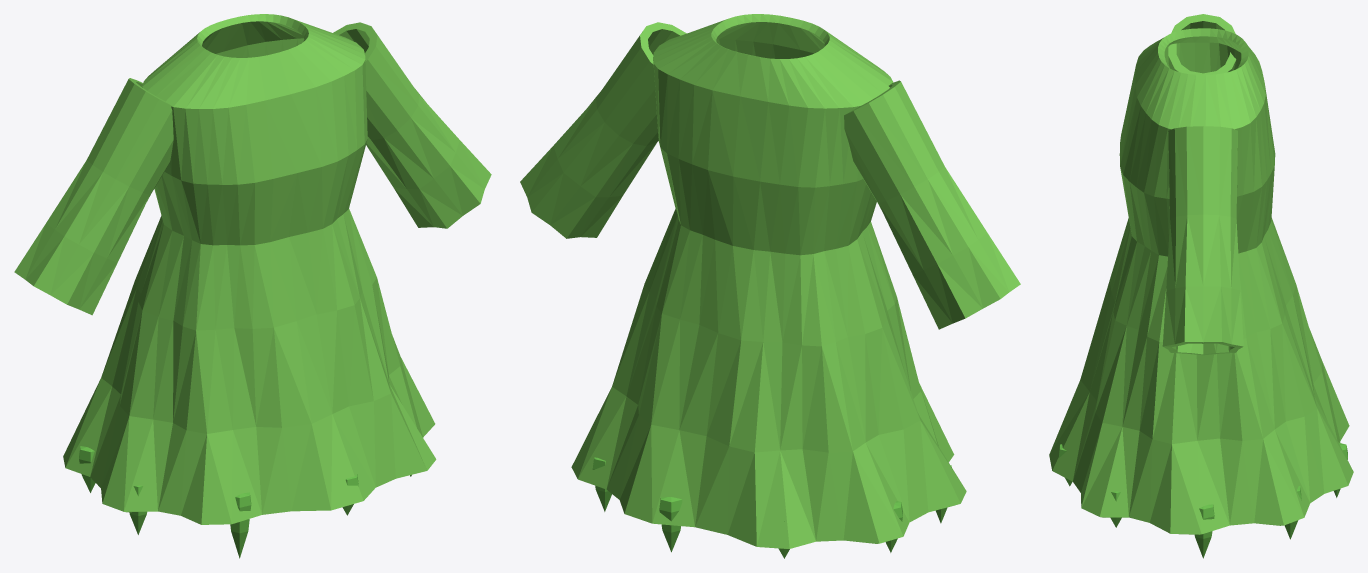
Rendered from slime_coat.obj.
3 renders of one model, left to right at view 1: azimuth 30°, elevation 25°; view 2: azimuth 150°, elevation 25°; view 3: azimuth 270°, elevation 25°, orthographic. The views are drawn at different scales.
Parts seen in each view (by area): view 1: A_Body.001_slime_coat_cloth, C_Sleeve.001_slime_coat_cloth, F_Drip6.001_slime_coat_slime; view 2: A_Body.001_slime_coat_cloth, C_Sleeve.001_slime_coat_cloth, F_Drip2.001_slime_coat_slime; view 3: A_Body.001_slime_coat_cloth, C_Sleeve.001_slime_coat_cloth, F_Drip0.001_slime_coat_slime.
Boxes of the visible parts, x1,y1,x2,y2 form: A_Body.001_slime_coat_cloth: (63, 14, 436, 524); C_Sleeve.001_slime_coat_cloth: (14, 22, 491, 315); F_Drip6.001_slime_coat_slime: (230, 492, 251, 558); A_Body.001_slime_coat_cloth: (571, 14, 966, 548); C_Sleeve.001_slime_coat_cloth: (520, 22, 1020, 329); F_Drip2.001_slime_coat_slime: (659, 497, 682, 552); A_Body.001_slime_coat_cloth: (1049, 28, 1353, 534); C_Sleeve.001_slime_coat_cloth: (1162, 14, 1243, 355); F_Drip0.001_slime_coat_slime: (1194, 504, 1214, 558).
Size of the model in its own units: 3.17 by 3.04 by 1.88.
